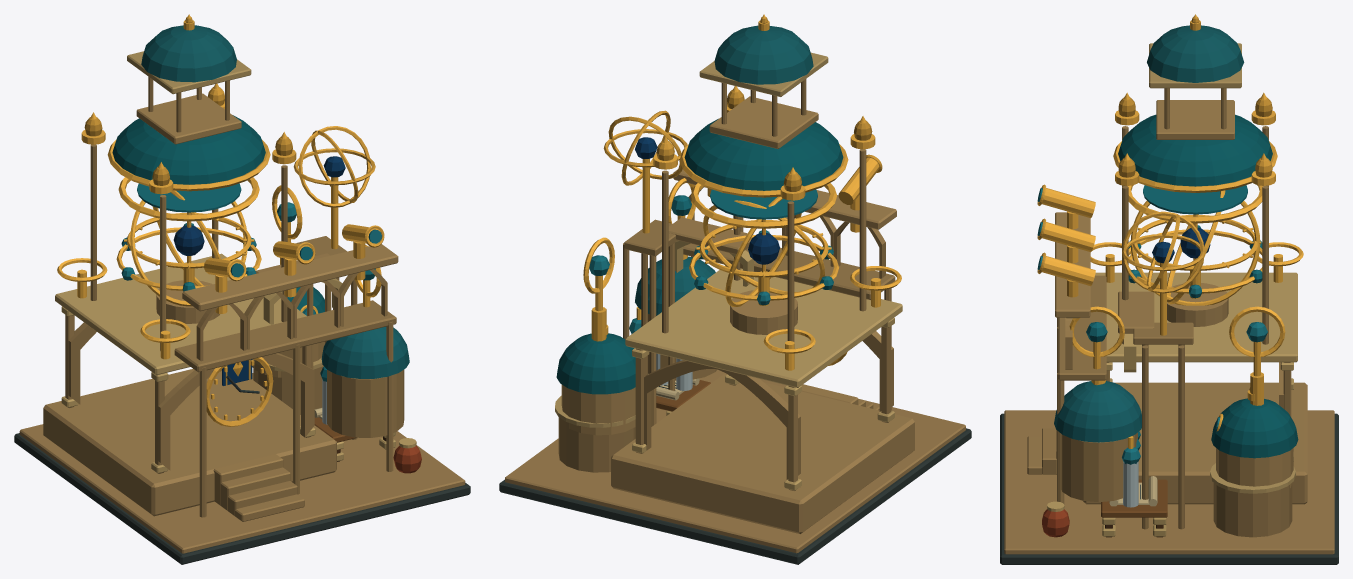
The picture shows the model from 3 angles, left to right: view 1: azimuth 30°, elevation 25°; view 2: azimuth 150°, elevation 25°; view 3: azimuth 270°, elevation 25°; orthographic projection. The views are drawn at different scales.
Visible parts, largest first — view 1: laboratory_level15_structure, laboratory_level15_metal; view 2: laboratory_level15_structure, laboratory_level15_metal; view 3: laboratory_level15_structure, laboratory_level15_metal.
Boxes of the visible parts, x1,y1,x2,y2 form: laboratory_level15_structure: (14, 17, 470, 564); laboratory_level15_metal: (57, 14, 384, 426); laboratory_level15_structure: (499, 17, 971, 564); laboratory_level15_metal: (583, 14, 901, 370); laboratory_level15_structure: (1000, 16, 1338, 564); laboratory_level15_metal: (1037, 14, 1303, 448).
Size of the model in its own units: 5.6 by 8.39 by 5.6.
